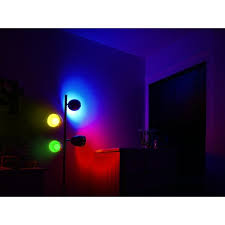bulb: (43, 111, 62, 128), (46, 142, 61, 151)
